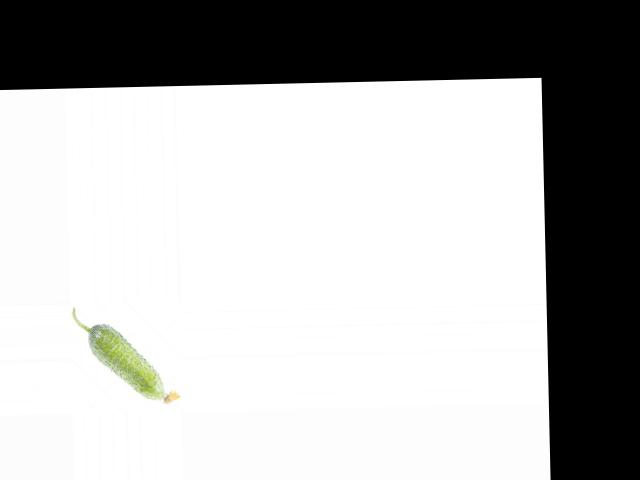cucumber: (72, 305, 181, 405)
